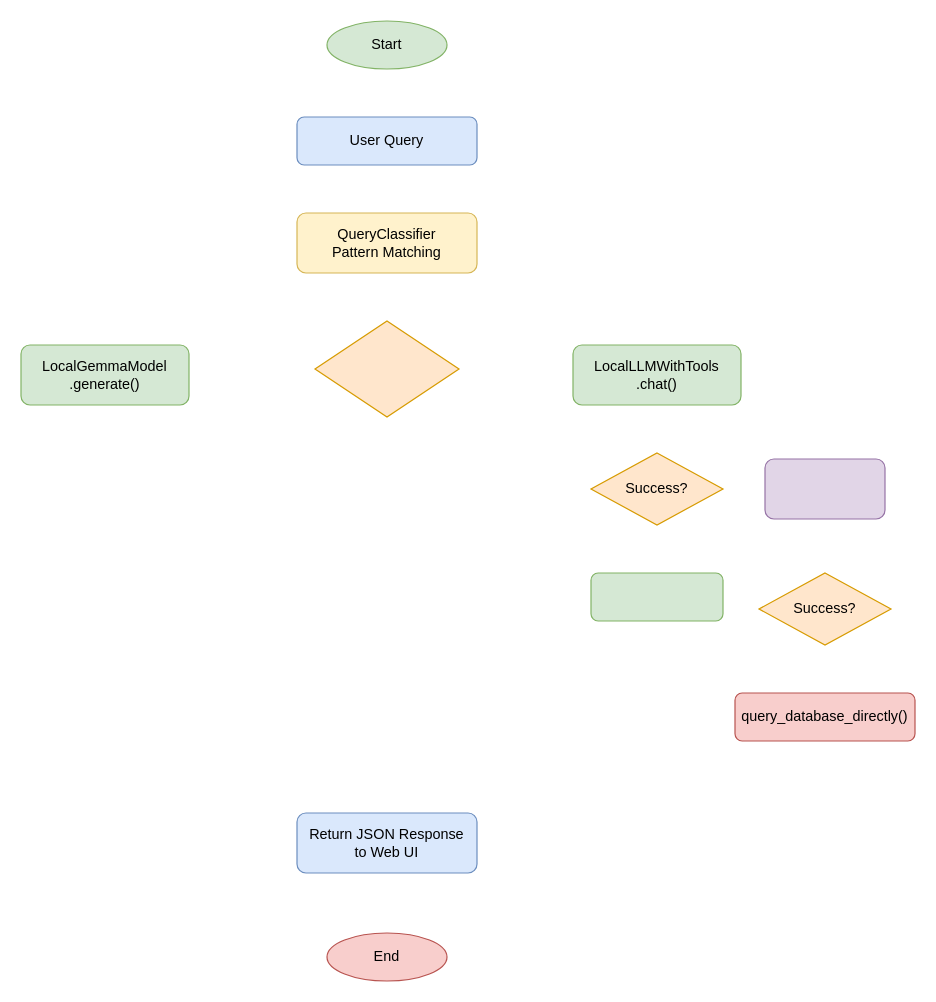
Some shapes in this 936 by 1002 pixel diagram are drawn without their labels. Each missing label, with the centre of its shape:
Cloud Gemini + ADK: the point at 824,488
Format Tool Results: the point at 656,596
Query Type?: the point at 386,368
